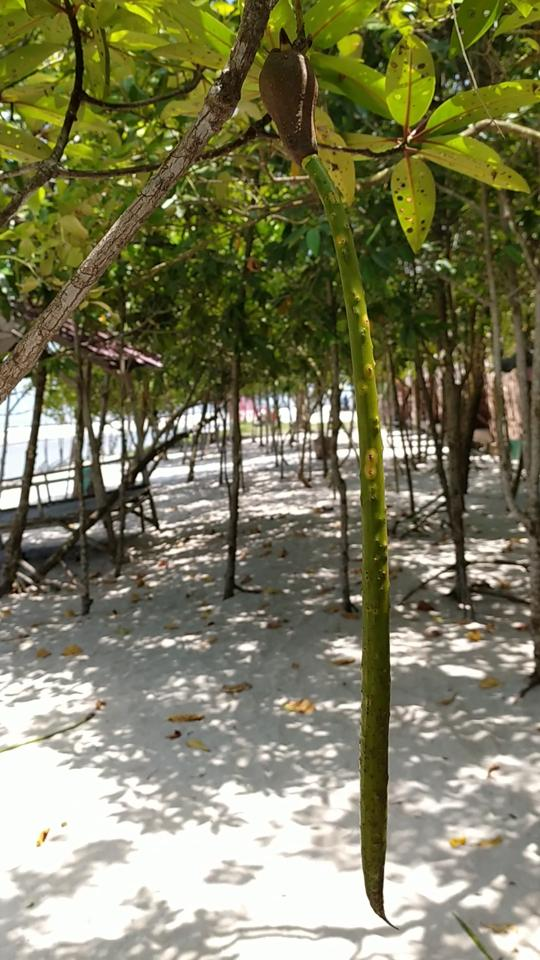setengah matang: (253, 30, 417, 934)
